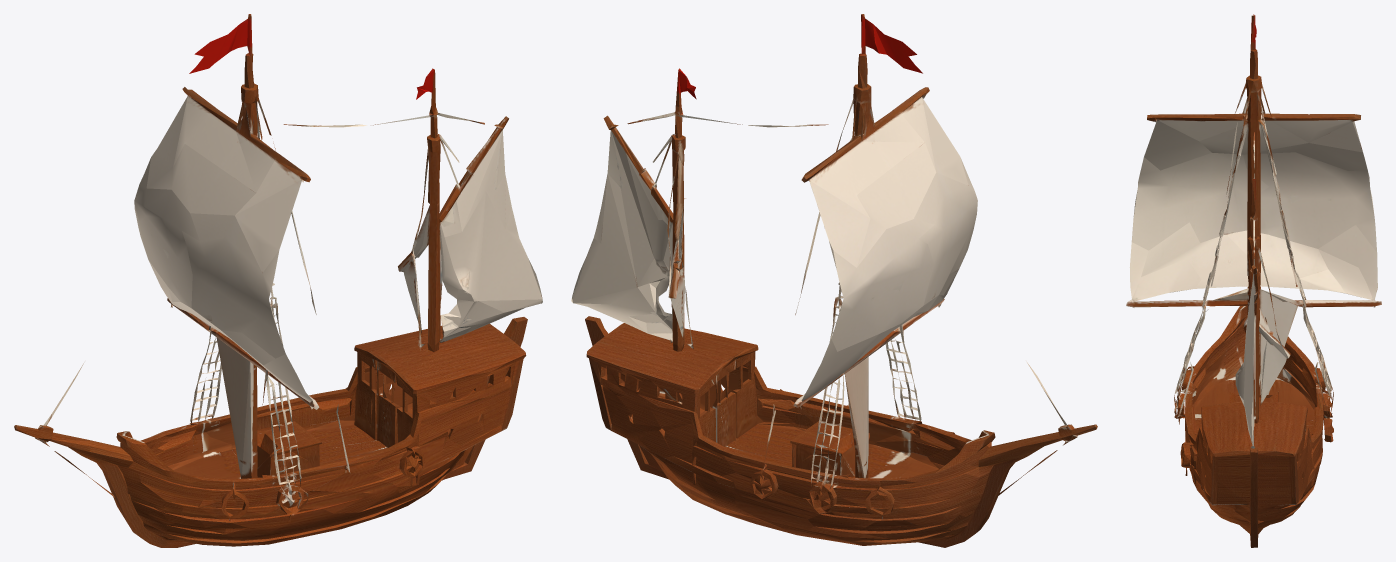
Rendered from ship.glb.
The picture shows the model from 3 angles, left to right: view 1: azimuth 30°, elevation 25°; view 2: azimuth 150°, elevation 25°; view 3: azimuth 270°, elevation 25°; orthographic projection. The views are drawn at different scales.
Size of the model in its own units: 1.9 by 1.78 by 0.925.
Materials: 1 (1 with a texture image).
